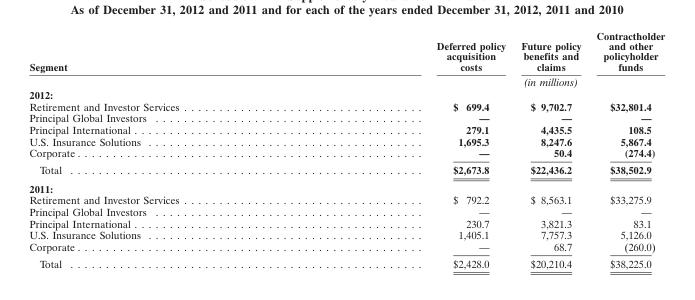table: (28, 28, 664, 269)
table column: (28, 28, 307, 269), (307, 28, 512, 269), (512, 28, 588, 269), (588, 28, 664, 269)
table column header: (28, 28, 664, 87)
table projected row header: (28, 178, 664, 193), (28, 87, 664, 100)
table row: (28, 28, 664, 73), (28, 160, 664, 178), (28, 178, 664, 193), (28, 254, 664, 269), (28, 73, 664, 87), (28, 146, 664, 160), (28, 240, 664, 254), (28, 87, 664, 100), (28, 111, 664, 123), (28, 123, 664, 135), (28, 193, 664, 205), (28, 205, 664, 217), (28, 228, 664, 240), (28, 100, 664, 111), (28, 135, 664, 146), (28, 217, 664, 228)
table spanning cell: (28, 28, 307, 87), (307, 73, 664, 87)
